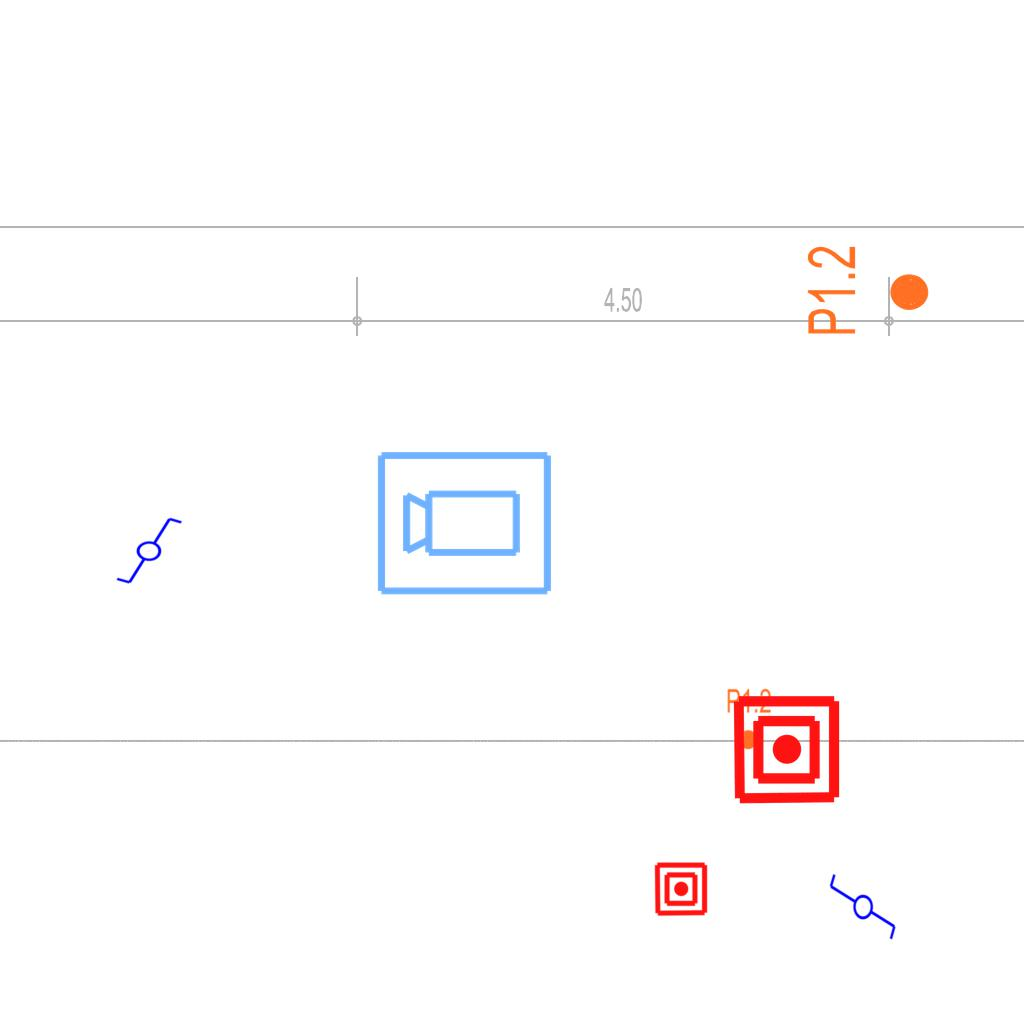Downlight_LED_Einbauleuchten_Flur: (804, 244, 932, 337), (726, 687, 772, 751)
KFO_Kamera_mit_Festobjektiv: (374, 445, 556, 599)
NAM-Nichtautomatischer_Melder: (730, 693, 843, 806), (653, 861, 709, 917)
Wechselschalter: (826, 872, 898, 950), (106, 514, 184, 586)
